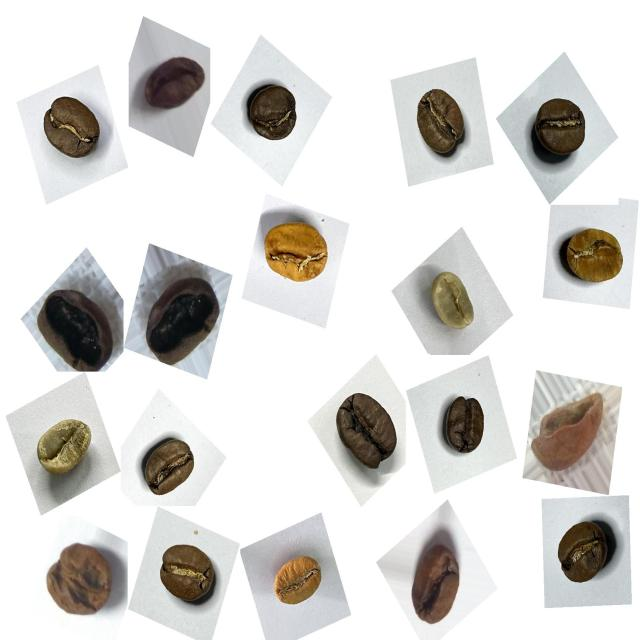bad: (526, 379, 626, 484), (31, 278, 123, 383), (142, 256, 228, 366), (36, 531, 122, 626), (400, 531, 471, 634), (137, 41, 217, 124)
dark: (240, 72, 309, 156), (436, 384, 499, 468)
green: (25, 405, 102, 491), (418, 260, 483, 345)
light: (255, 209, 336, 301), (260, 538, 330, 618)
medium: (324, 384, 406, 483), (546, 506, 628, 600), (554, 214, 634, 302), (404, 77, 476, 169), (149, 532, 224, 615), (35, 86, 109, 169), (133, 427, 206, 506), (528, 85, 596, 166)
